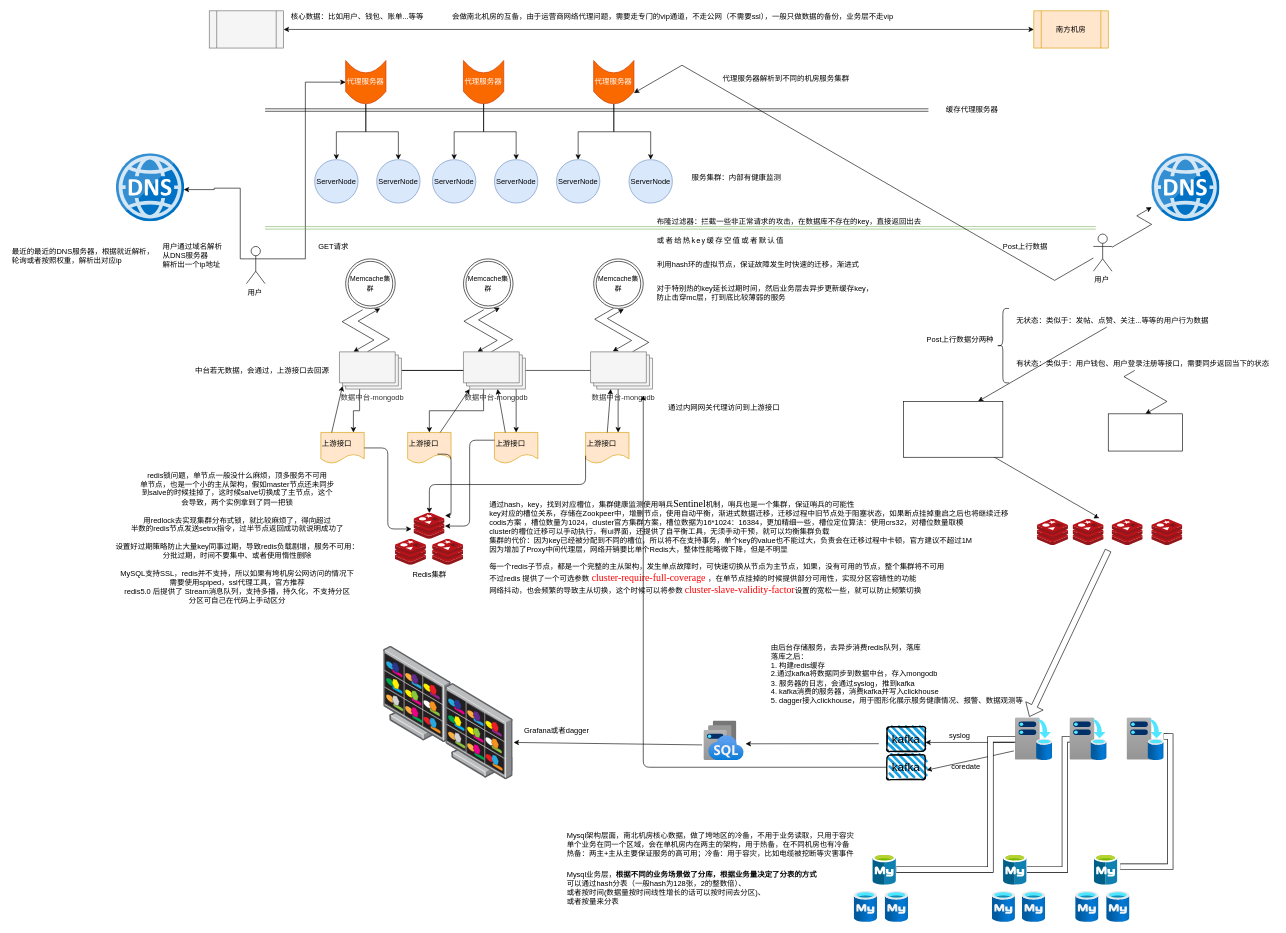
The diagram is 1286 pixels wide and 933 high, and some of its shapes have lost their labels. Here are the shapes that lost their labels. From the top down, the centre of each, then its label:
(x=246, y=29): 北方机房
(x=953, y=429): 无状态的行为数据，用户点赞、关注等数据，量会比较大，会先入消息中间件redis, 看业务量，可以分配多个核心，然后由底层服务去消费
(x=1145, y=432): 直接走分布式服务，保证好服务的：隔离性、幂等性、原子性，即可
